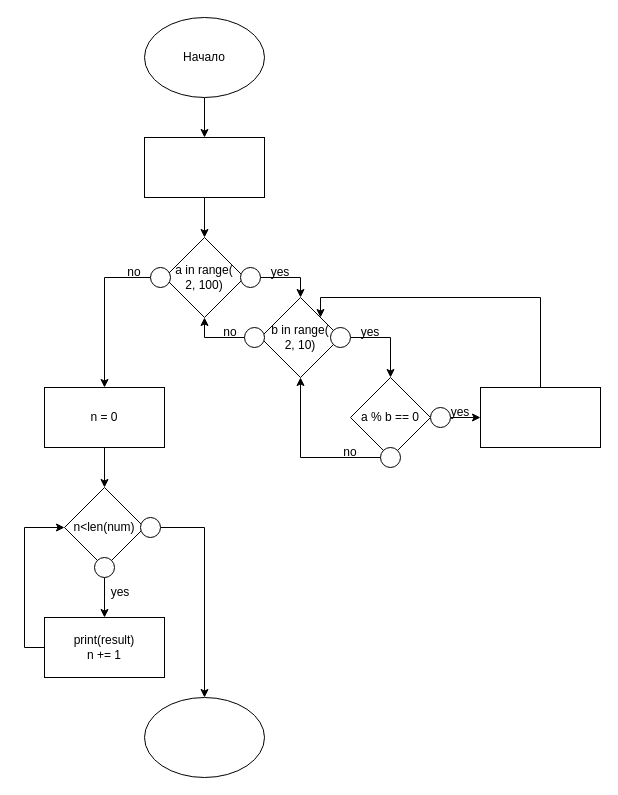
Some shapes in this 618 by 795 pixel diagram are drawn without their labels. The shapes that lost their labels are listed below. From the top down, each one's centre as x and y in pixels, then its label:
(x=204, y=167): num=[0]*8
(x=540, y=417): num[b-2] +=1
(x=204, y=737): Конец
